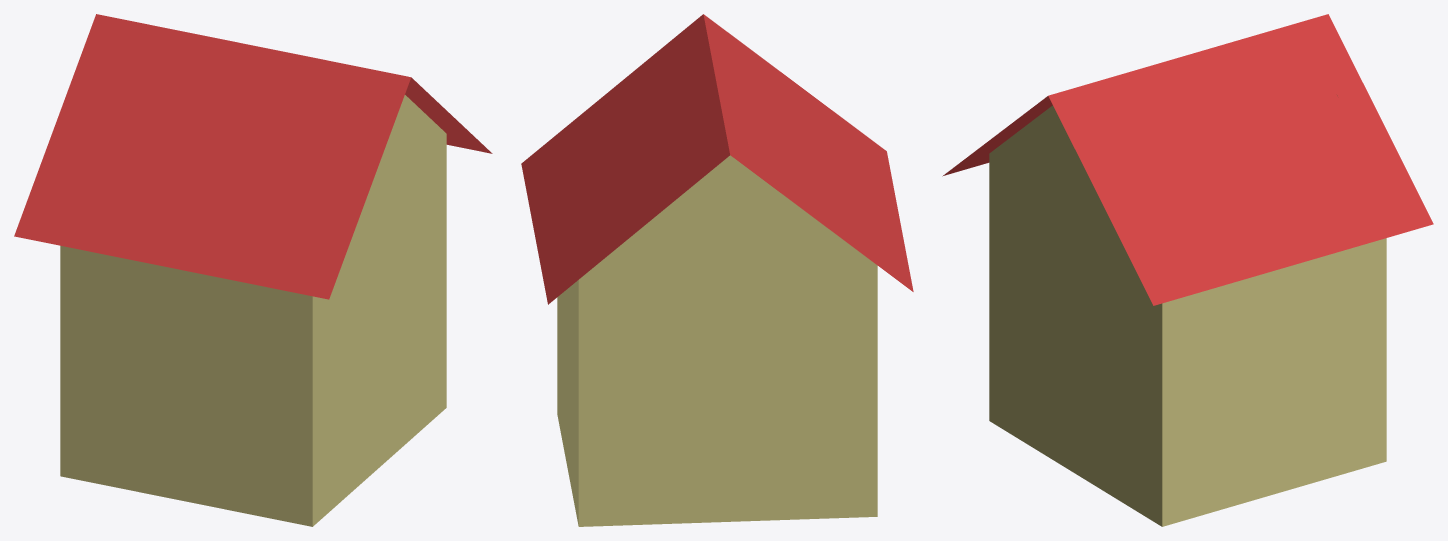
3 views of the same model, side by side, from view 1: azimuth 30°, elevation 25°; view 2: azimuth 150°, elevation 25°; view 3: azimuth 270°, elevation 25° (orthographic). The views are drawn at different scales.
Bounding box in the file's own units: 14.74 × 14.5 × 12.58.
